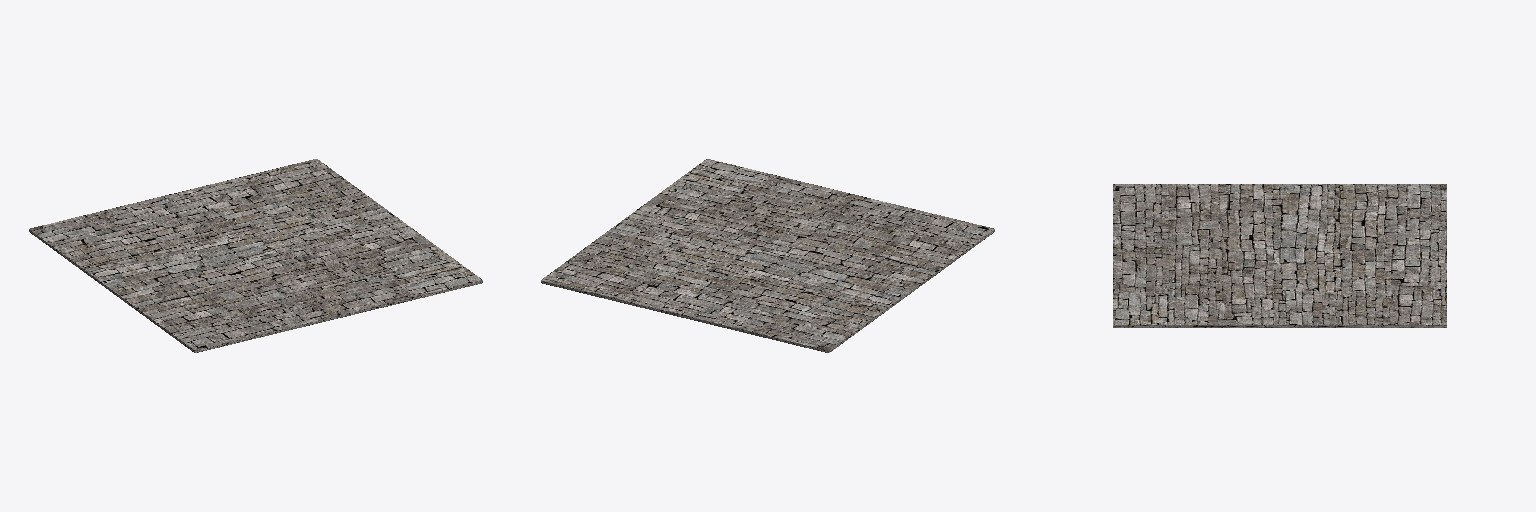
3 views of the same model, side by side, from view 1: azimuth 30°, elevation 25°; view 2: azimuth 150°, elevation 25°; view 3: azimuth 270°, elevation 25° (orthographic).
Visible parts, largest first — view 1: Box001; view 2: Box001; view 3: Box001.
Boxes of the visible parts, x1,y1,x2,y2 form: Box001: [29, 159, 482, 352]; Box001: [541, 159, 994, 352]; Box001: [1113, 184, 1446, 327].
Bounding box in the file's own units: 20 × 0.1787 × 20.
1 materials, 1 textured.